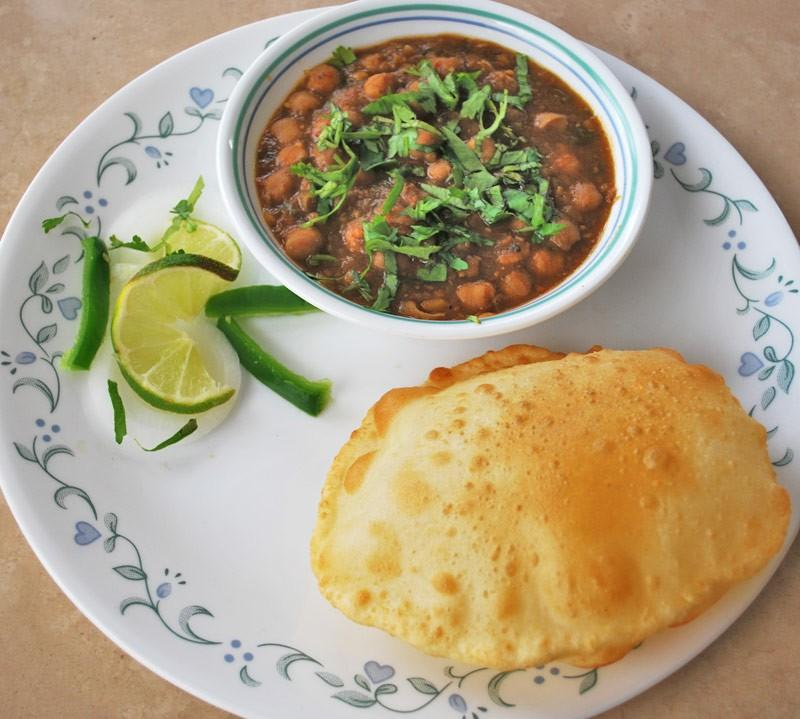Bhatura: (312, 339, 800, 672)
Chole: (259, 30, 614, 317)
